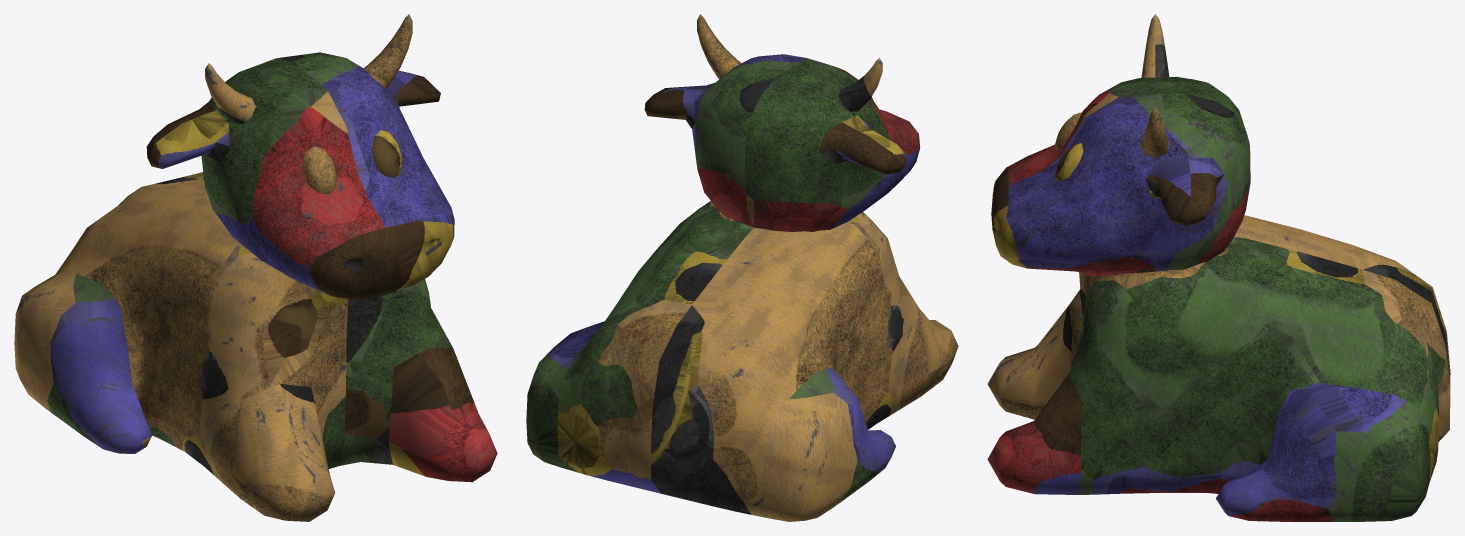
The model's file is buey.fbx.
The picture shows the model from 3 angles, left to right: view 1: azimuth 30°, elevation 25°; view 2: azimuth 150°, elevation 25°; view 3: azimuth 270°, elevation 25°; orthographic projection. The views are drawn at different scales.
Visible parts, largest first — view 1: Cube.005, Cube.007, Circle.010, Sphere.024; view 2: Cube.005, Cube.007, Circle.010; view 3: Cube.005, Cube.007, Circle.010, Sphere.024.
Part boxes in pixels (bbox=[...]): Cube.005: bbox=[14, 172, 497, 521]; Cube.007: bbox=[146, 52, 454, 299]; Circle.010: bbox=[205, 14, 412, 124]; Sphere.024: bbox=[302, 130, 402, 194]; Cube.005: bbox=[526, 201, 958, 521]; Cube.007: bbox=[644, 54, 920, 231]; Circle.010: bbox=[697, 14, 882, 111]; Cube.005: bbox=[987, 215, 1450, 521]; Cube.007: bbox=[991, 76, 1250, 276]; Circle.010: bbox=[1140, 14, 1169, 158]; Sphere.024: bbox=[1055, 112, 1083, 181].
Size of the model in its own units: 612 by 736 by 779.
